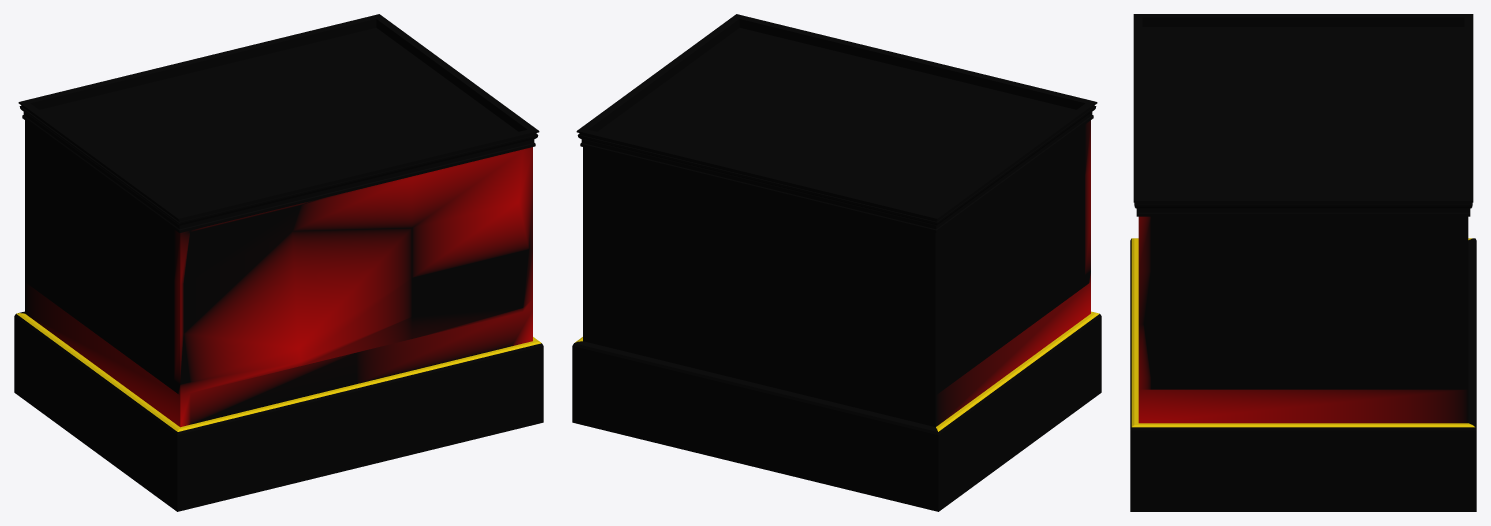
File: House2.fbx
3 views of the same model, side by side, from view 1: azimuth 30°, elevation 25°; view 2: azimuth 150°, elevation 25°; view 3: azimuth 270°, elevation 25° (orthographic). The views are drawn at different scales.
Parts seen in each view (by area): view 1: House2; view 2: House2; view 3: House2.
Boxes of the visible parts, x1,y1,x2,y2 form: House2: (14,14,543,511); House2: (572,14,1101,511); House2: (1130,14,1476,511).
Bounding box in the file's own units: 1090 × 828 × 840.
